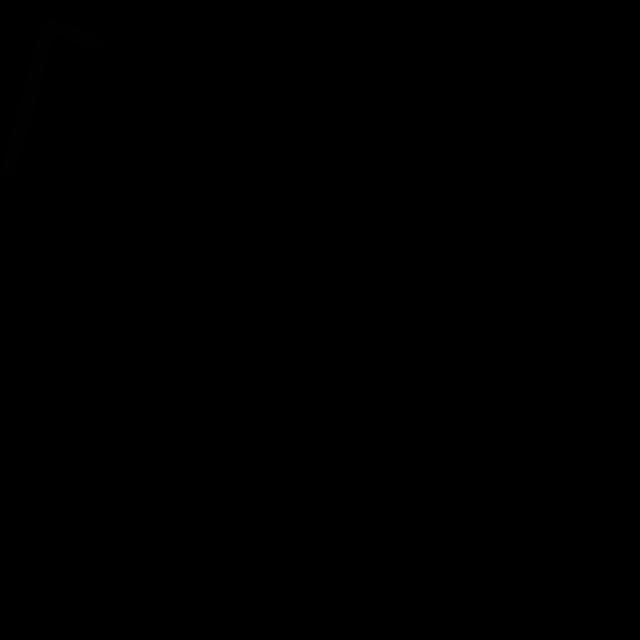rigid_plastic: (0, 18, 107, 181)
